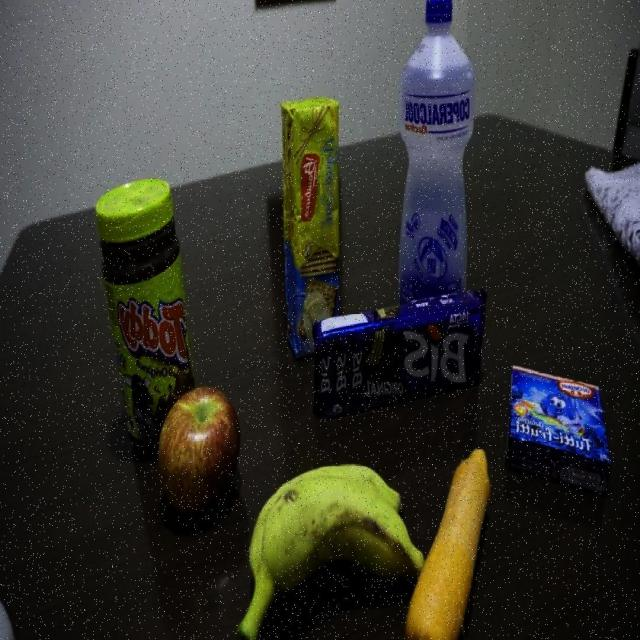AlcoholBottle: (392, 0, 473, 294)
Apple: (155, 391, 233, 520)
Banana: (233, 463, 417, 640)
Carrot: (420, 444, 494, 640)
ChocolatePowder: (96, 174, 193, 392)
Cracker: (283, 96, 342, 317)
Gelatine: (508, 364, 611, 492)
